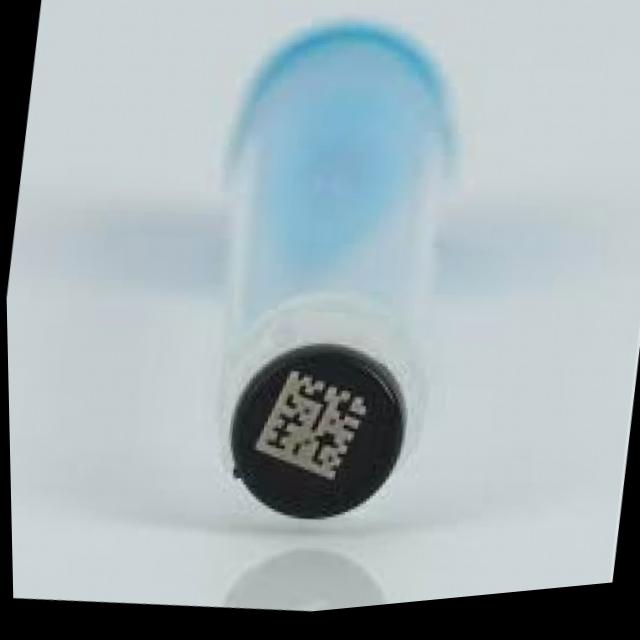datamatrix: (235, 352, 381, 519)
